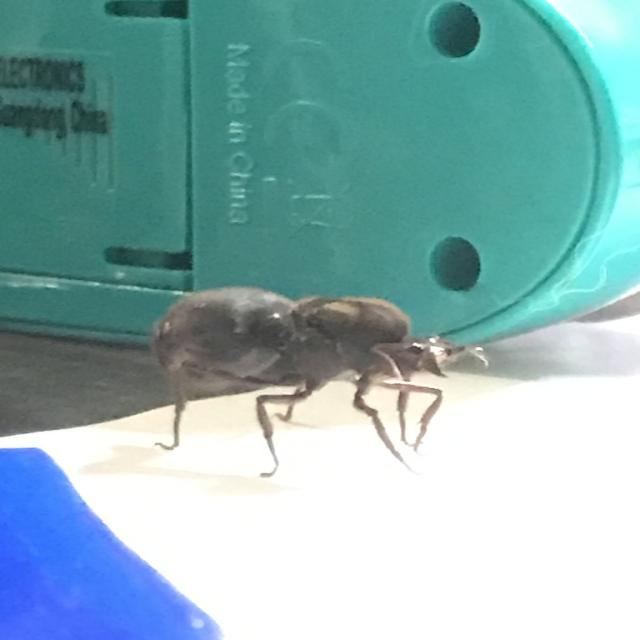Alive-Female-Dealate: (155, 286, 491, 479)
